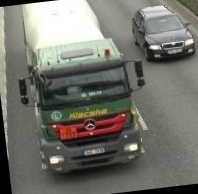car: (128, 1, 198, 67)
